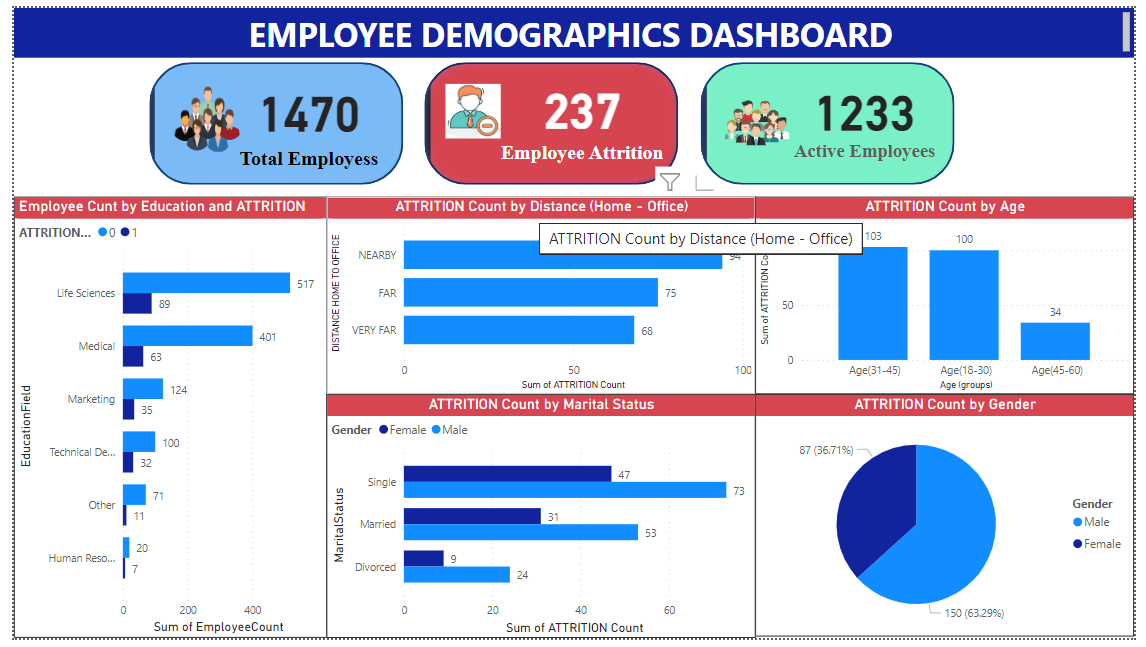

The page's visual inventory and layout, read from the dashboard file:
{"tool":"powerbi","page":{"name":"Page 1","canvas":[1280,720],"ordinal":0},"visuals":[{"type":"cardVisual","fields":{"Data":["Sum(HR-Employee-Attrition.EmployeeCount)"]},"box":[150.3,57.1,300.6,150.3],"z":0},{"type":"clusteredBarChart","title":"Employee Cunt by Education and ATTRITION","fields":{"Category":["HR-Employee-Attrition.EducationField"],"Y":["Sum(HR-Employee-Attrition.EmployeeCount)"],"Series":["HR-Employee-Attrition.attribution count"]},"box":[0,215.7,357.6,503.8],"z":1000},{"type":"cardVisual","fields":{"Data":["Sum(HR-Employee-Attrition.attribution count)"]},"box":[464.8,57.1,300.6,150.3],"z":2000},{"type":"barChart","title":"ATTRITION Count by Distance (Home - Office)","fields":{"Category":["HR-Employee-Attrition.DISTANCE HOME TO OFFICE"],"Y":["Sum(HR-Employee-Attrition.attribution count)"]},"box":[357.1,215.7,490,225.7],"z":4000},{"type":"clusteredColumnChart","title":"ATTRITION Count by Age ","fields":{"Y":["Sum(HR-Employee-Attrition.attribution count)"],"Category":["HR-Employee-Attrition.Age (groups)"]},"box":[847.1,215.7,432.9,225.7],"z":5000},{"type":"cardVisual","fields":{"Data":["HR-Employee-Attrition.Active EMployees"]},"box":[779.3,57.1,300.6,150.3],"z":6000},{"type":"pieChart","title":"ATTRITION Count by Gender","fields":{"Y":["Sum(HR-Employee-Attrition.attribution count)"],"Category":["HR-Employee-Attrition.Gender"]},"box":[847.1,441.4,432.9,277.1],"z":7000},{"type":"clusteredBarChart","title":"ATTRITION Count by Marital Status","fields":{"Category":["HR-Employee-Attrition.MaritalStatus"],"Series":["HR-Employee-Attrition.Gender"],"Y":["Sum(HR-Employee-Attrition.attribution count)"]},"box":[357.1,441.4,490,278.6],"z":8000},{"type":"textbox","box":[0,0,1280,57.1],"z":9000}]}

Visuals, with their boxes in screenshot pixels (x1, y1, x2, y2), scaled from the page's 1280x720 canvas onto the 1146x647 screenshot:
cardVisual - Sum(HR-Employee-Attrition.EmployeeCount): select_region(135, 51, 404, 186)
"Employee Cunt by Education and ATTRITION" clusteredBarChart: select_region(0, 194, 320, 646)
cardVisual - Sum(HR-Employee-Attrition.attribution count): select_region(416, 51, 685, 186)
"ATTRITION Count by Distance (Home - Office)" barChart: select_region(320, 194, 758, 397)
"ATTRITION Count by Age " clusteredColumnChart: select_region(758, 194, 1145, 397)
cardVisual - HR-Employee-Attrition.Active EMployees: select_region(698, 51, 967, 186)
"ATTRITION Count by Gender" pieChart: select_region(758, 397, 1145, 646)
"ATTRITION Count by Marital Status" clusteredBarChart: select_region(320, 397, 758, 646)
textbox: select_region(0, 0, 1145, 51)
